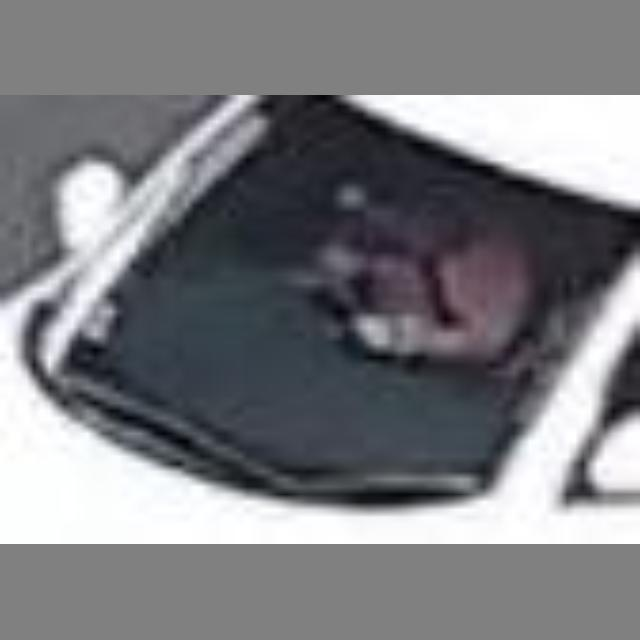pakai: (282, 156, 518, 392)
